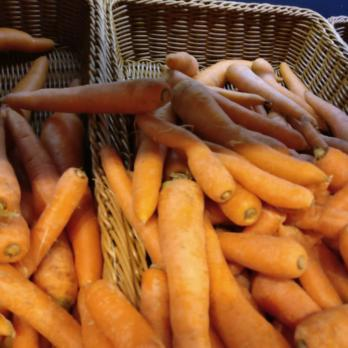Carrot: (158, 64, 301, 348), (4, 117, 92, 348), (296, 90, 348, 348), (0, 76, 181, 114), (0, 22, 56, 57)
